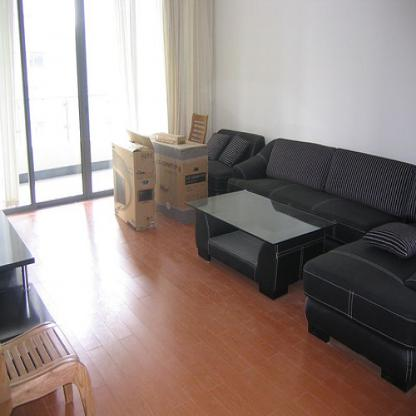chair: (0, 319, 97, 415)
sofa: (224, 136, 415, 252), (303, 234, 415, 392), (207, 127, 266, 196)
